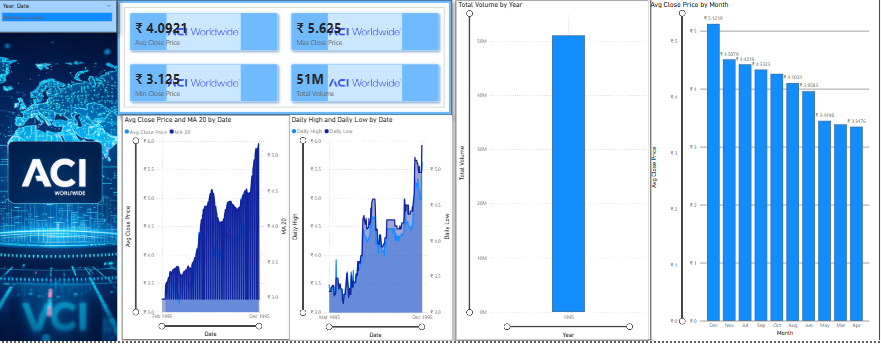

The dashboard page shown, as its layout file describes it:
{"tool":"powerbi","page":{"name":"Page 1","canvas":[2413,828],"ordinal":0},"visuals":[{"type":"cardVisual","fields":{"Data":["DateTable.Avg Close Price","DateTable.Max Close Price","DateTable.Min Close Price","DateTable.Total Volume"]},"box":[290.8,0,812.4,279.5],"z":0},{"type":"lineChart","fields":{"Category":["DateTable.Date"],"Y":["DateTable.Avg Close Price"],"Y2":["DateTable.MA 20"]},"box":[302.4,279.6,406.2,545.1],"z":1000},{"type":"areaChart","fields":{"Category":["DateTable.Date"],"Y":["raw_data file.Daily High"],"Y2":["DateTable.Daily Low"]},"box":[708.6,279.6,393.9,545.1],"z":2000},{"type":"columnChart","fields":{"Y":["DateTable.Total Volume"],"Category":["raw_data file.Date.Variation.Date Hierarchy.Year"]},"box":[1111.3,0,467.7,824.7],"z":3000},{"type":"clusteredColumnChart","fields":{"Y":["DateTable.Avg Close Price"],"Category":["DateTable.Month"]},"box":[1580,0,541,821.7],"z":4000},{"type":"slicer","fields":{"Values":["DateTable.Year","raw_data file.Date"]},"box":[0,0,290.4,78.1],"z":5000},{"type":"shape","box":[2132,0,12.4,824.7],"z":6000},{"type":"shape","box":[1579.4,0,12.4,824.7],"z":7000},{"type":"image","box":[0,78.1,291.8,750.7],"z":8000}]}

Visuals, with their boxes on the page's 2413x828 design canvas (x1, y1, x2, y2). These are canvas units, not pixel positions in the 881x346 screenshot, which may show the page scaled, cropped or inside an application window:
cardVisual - DateTable.Avg Close Price x DateTable.Max Close Price: <bbox>291, 0, 1103, 280</bbox>
lineChart - DateTable.Date x DateTable.Avg Close Price: <bbox>302, 280, 709, 825</bbox>
areaChart - DateTable.Date x raw_data file.Daily High: <bbox>709, 280, 1102, 825</bbox>
columnChart - DateTable.Total Volume x raw_data file.Date.Variation.Date Hierarchy.Year: <bbox>1111, 0, 1579, 825</bbox>
clusteredColumnChart - DateTable.Avg Close Price x DateTable.Month: <bbox>1580, 0, 2121, 822</bbox>
slicer - DateTable.Year x raw_data file.Date: <bbox>0, 0, 290, 78</bbox>
shape: <bbox>2132, 0, 2144, 825</bbox>
shape: <bbox>1579, 0, 1592, 825</bbox>
image: <bbox>0, 78, 292, 829</bbox>
